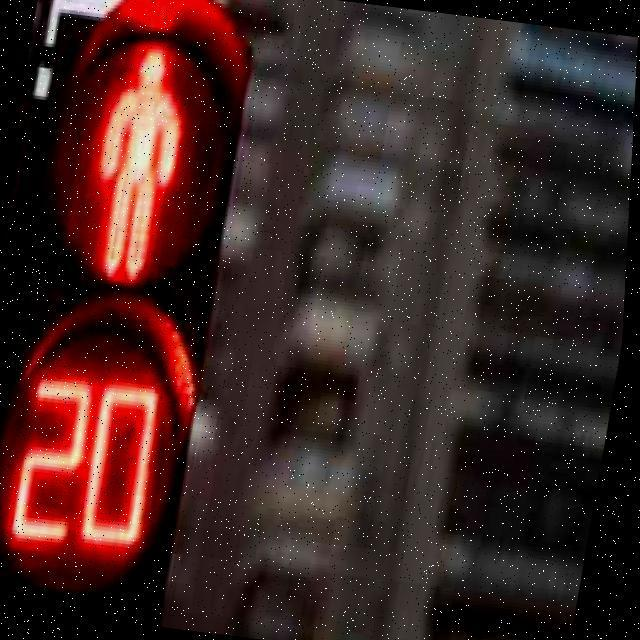red_light: (1, 26, 238, 567)
